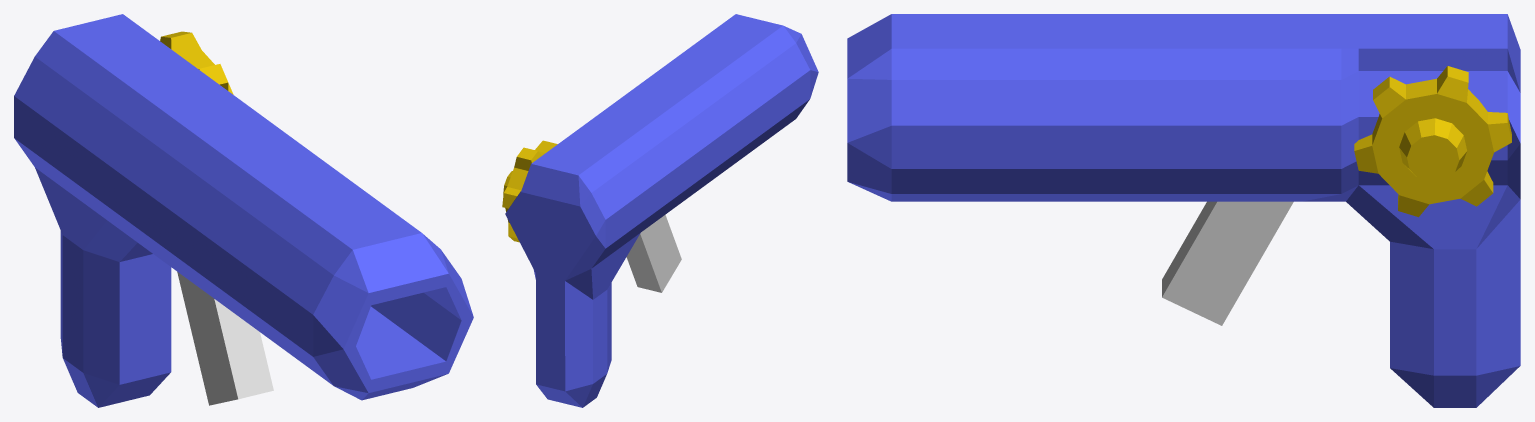
File: gun.fbx
3 renders of one model, left to right at view 1: azimuth 30°, elevation 25°; view 2: azimuth 150°, elevation 25°; view 3: azimuth 270°, elevation 25°, orthographic. The views are drawn at different scales.
Visible parts, largest first — view 1: GunBody, GunHandle, GunGear; view 2: GunBody, GunHandle, GunGear; view 3: GunBody, GunGear, GunHandle.
Part boxes in pixels (<box>): GunBody: <box>14,14,473,407</box>; GunHandle: <box>177,272,273,405</box>; GunGear: <box>160,31,233,94</box>; GunBody: <box>505,14,818,407</box>; GunHandle: <box>626,214,681,292</box>; GunGear: <box>502,140,557,242</box>; GunBody: <box>847,14,1520,407</box>; GunGear: <box>1354,66,1511,217</box>; GunHandle: <box>1162,201,1293,325</box>.
Size of the model in its own units: 25.87 by 50.45 by 84.61.
